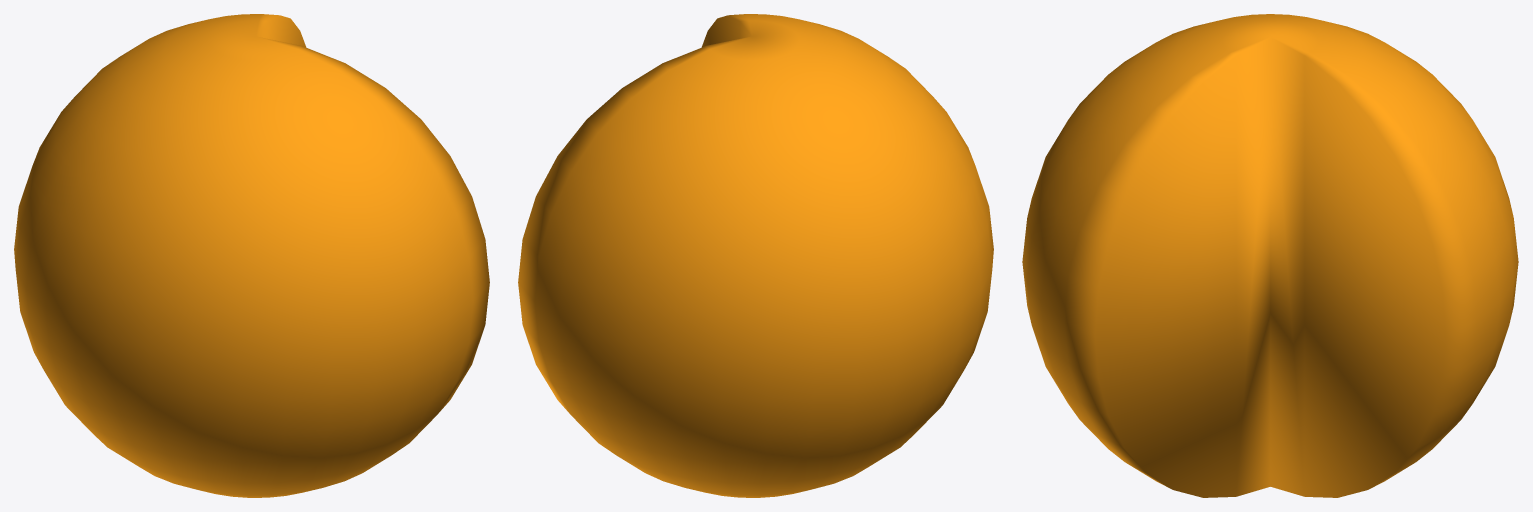
The model's file is pacman.fbx.
The picture shows the model from 3 angles, left to right: view 1: azimuth 30°, elevation 25°; view 2: azimuth 150°, elevation 25°; view 3: azimuth 270°, elevation 25°; orthographic projection. The views are drawn at different scales.
Parts seen in each view (by area): view 1: pac man; view 2: pac man; view 3: pac man.
Part boxes in pixels (x1,y1,x2,y2): pac man: (14, 14, 489, 497); pac man: (518, 14, 993, 497); pac man: (1022, 14, 1518, 497).
Size of the model in its own units: 171 by 200 by 200.
